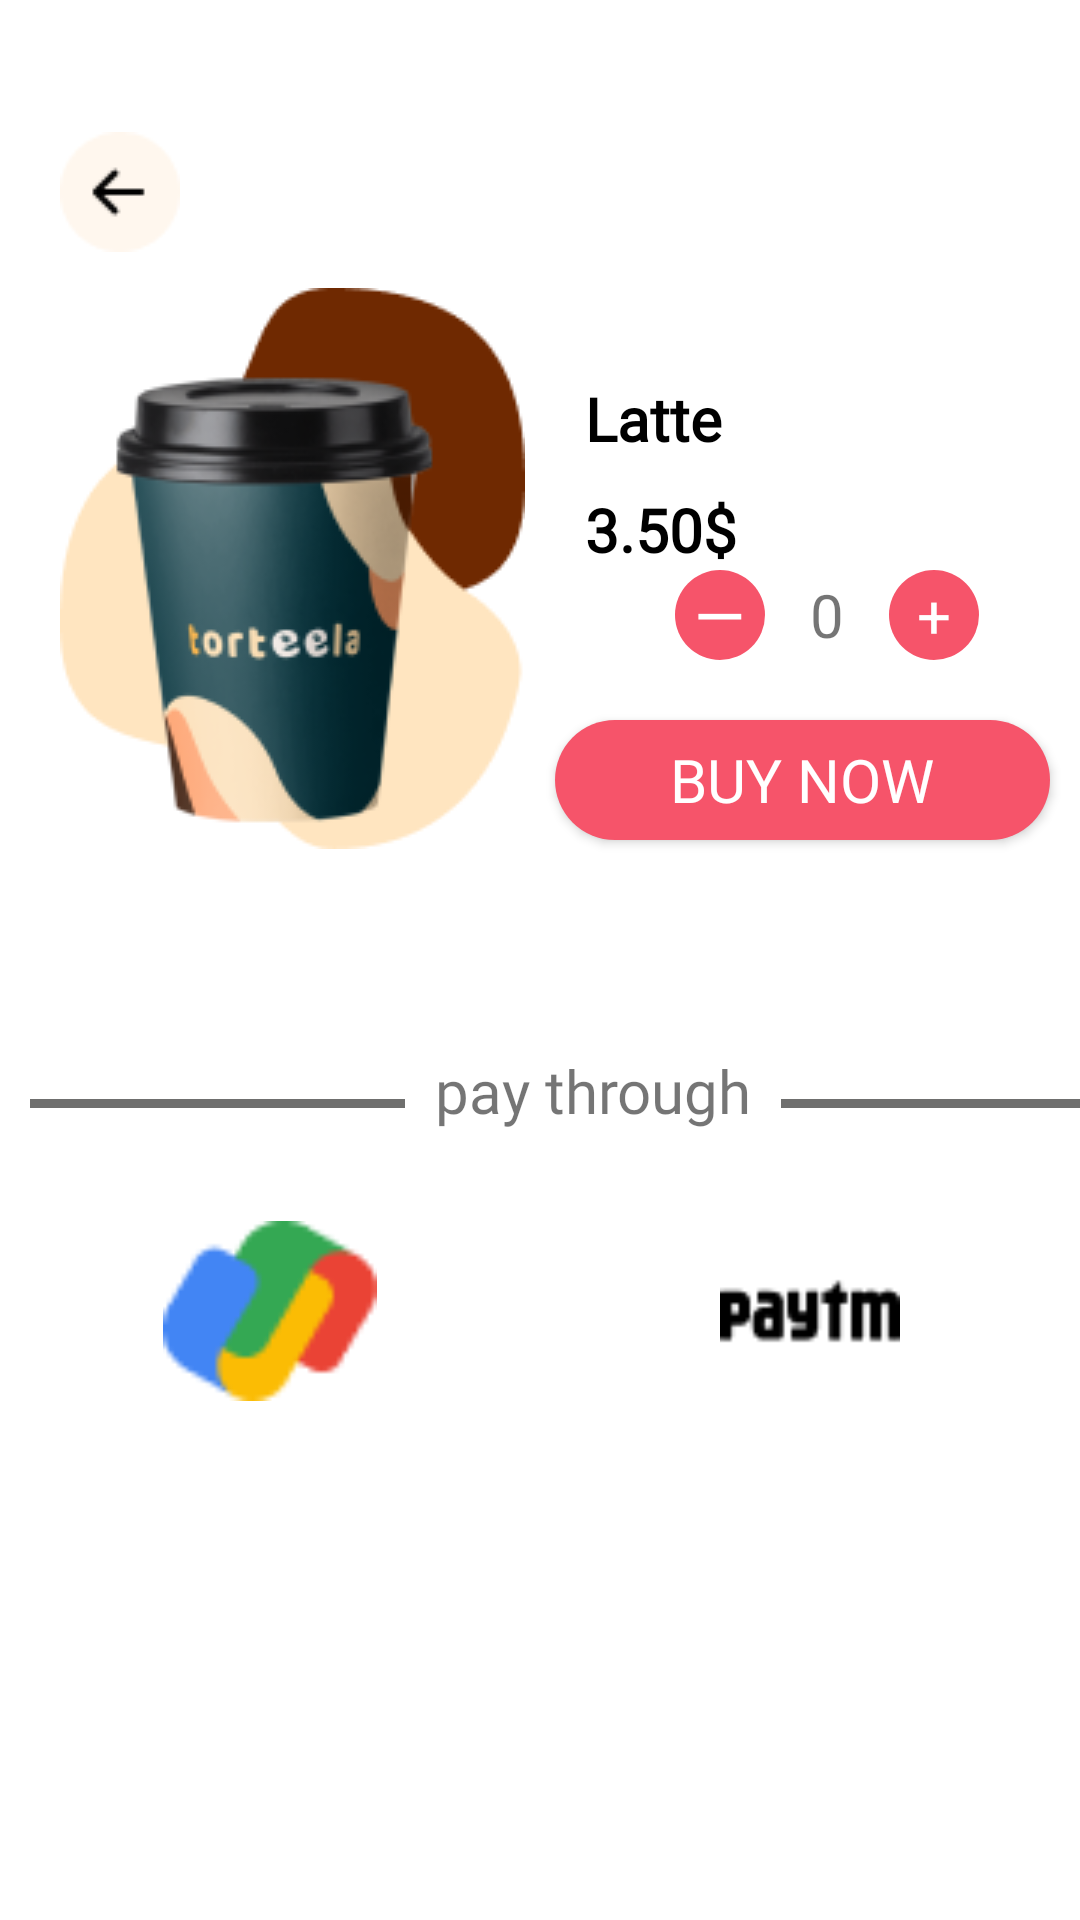

Point at icon controls on the screen. Image size 1080 x 1920, points as point (x, y).
prev: point (120, 192)
